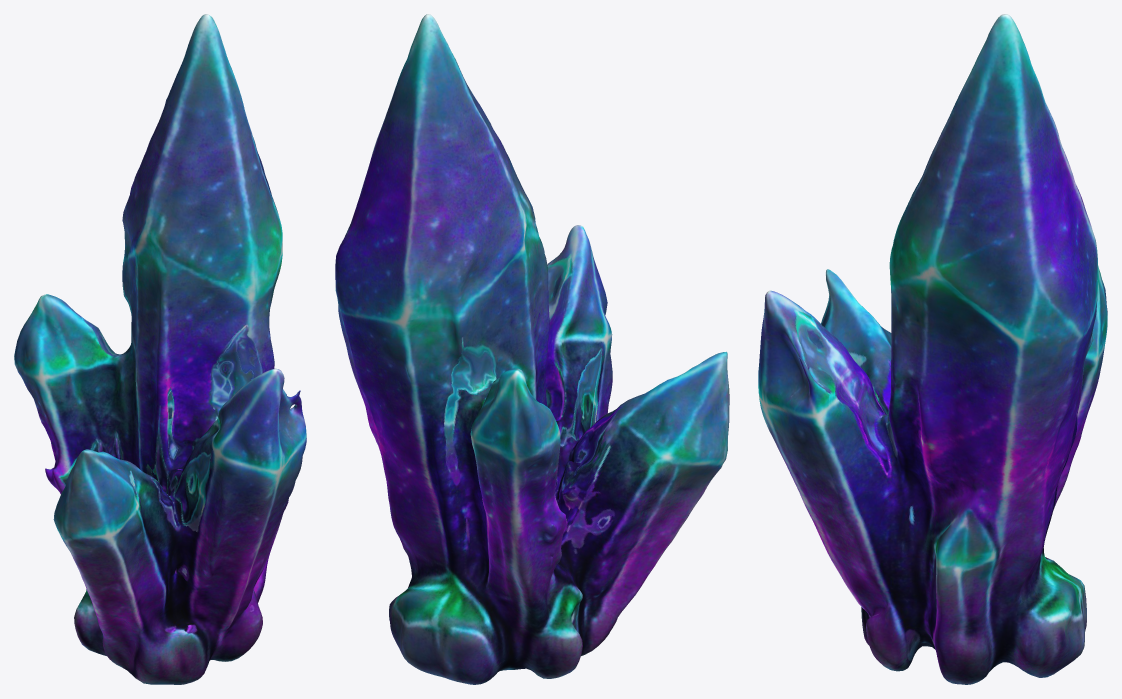
The model's file is 79c817ce-4149-4537-b482-dac7a2330849.glb.
The picture shows the model from 3 angles, left to right: view 1: azimuth 30°, elevation 25°; view 2: azimuth 150°, elevation 25°; view 3: azimuth 270°, elevation 25°; orthographic projection. The views are drawn at different scales.
Visible parts, largest first — view 1: mesh; view 2: mesh; view 3: mesh.
Boxes of the visible parts, x1,y1,x2,y2 form: mesh: (14,14,306,684); mesh: (335,14,729,684); mesh: (758,14,1107,684).
Bounding box in the file's own units: 0.4751 × 0.9952 × 0.4638.
Materials: 1 (1 with a texture image).
